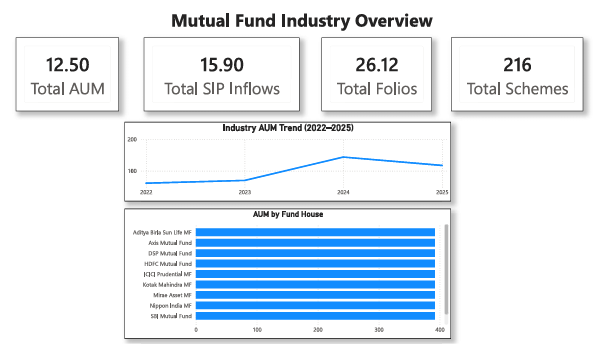

The dashboard page shown, as its layout file describes it:
{"tool":"powerbi","page":{"name":"Industry Overview","canvas":[1280,720],"ordinal":0},"visuals":[{"type":"textbox","box":[10,0,1270,67.5],"z":0},{"type":"cardVisual","fields":{"Data":["Max(03_aum_by_fund_house.aum_lakh_crore)"]},"box":[35,67.5,220,157.5],"z":1000},{"type":"cardVisual","fields":{"Data":["Max(04_monthly_sip_inflows.sip_aum_lakh_crore)"]},"box":[308.3,68.3,331.7,156.7],"z":2000},{"type":"cardVisual","fields":{"Data":["Max(06_industry_folio_count.total_folios_crore)"]},"box":[686.7,68.3,235,156.7],"z":3000},{"type":"cardVisual","fields":{"Data":["Max(03_aum_by_fund_house.num_schemes)"]},"box":[963.3,68.3,281.7,156.7],"z":4000},{"type":"lineChart","title":"Industry AUM Trend (2022–2025)","fields":{"Category":["03_aum_by_fund_house.date.Variation.Date Hierarchy.Year","03_aum_by_fund_house.date.Variation.Date Hierarchy.Quarter","03_aum_by_fund_house.date.Variation.Date Hierarchy.Month","03_aum_by_fund_house.date.Variation.Date Hierarchy.Day"],"Y":["Sum(03_aum_by_fund_house.aum_lakh_crore)"]},"box":[266.7,248.3,696.7,168.3],"z":5000},{"type":"clusteredBarChart","title":"AUM by Fund House","fields":{"Category":["01_fund_master.fund_house"],"Y":["Sum(03_aum_by_fund_house.aum_lakh_crore)"]},"box":[266.7,433.3,696.7,276.7],"z":6000}]}

Visuals, with their boxes on the page's 1280x720 design canvas (x1, y1, x2, y2). These are canvas units, not pixel positions in the 601x352 screenshot, which may show the page scaled, cropped or inside an application window:
textbox: left=10, top=0, right=1280, bottom=68
cardVisual - Max(03_aum_by_fund_house.aum_lakh_crore): left=35, top=68, right=255, bottom=225
cardVisual - Max(04_monthly_sip_inflows.sip_aum_lakh_crore): left=308, top=68, right=640, bottom=225
cardVisual - Max(06_industry_folio_count.total_folios_crore): left=687, top=68, right=922, bottom=225
cardVisual - Max(03_aum_by_fund_house.num_schemes): left=963, top=68, right=1245, bottom=225
"Industry AUM Trend (2022–2025)" lineChart: left=267, top=248, right=963, bottom=417
"AUM by Fund House" clusteredBarChart: left=267, top=433, right=963, bottom=710
